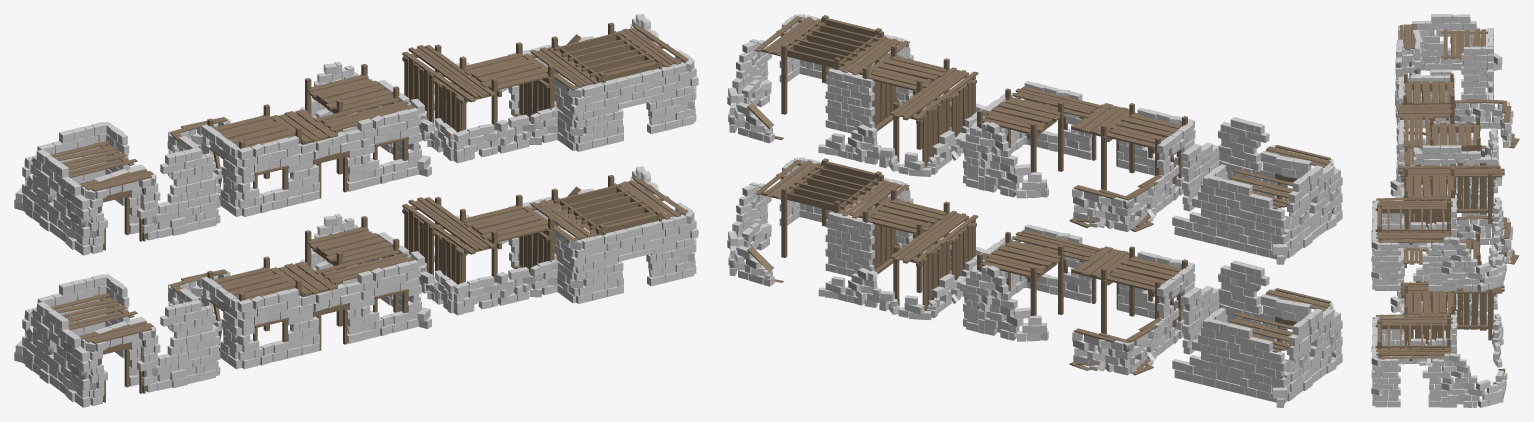
The model's file is Ruined_Structures_B.fbx.
3 renders of one model, left to right at view 1: azimuth 30°, elevation 25°; view 2: azimuth 150°, elevation 25°; view 3: azimuth 270°, elevation 25°, orthographic. The views are drawn at different scales.
Visible parts, largest first — view 1: Ruined_Structure_1A5, Ruined_Structure_1A5.001, Ruined_Structure_1A6, Ruined_Structure_1A6.001, Ruined_Structure_1A7, Ruined_Structure_1A7.001; view 2: Ruined_Structure_1A5, Ruined_Structure_1A5.001, Ruined_Structure_1A6, Ruined_Structure_1A6.001, Ruined_Structure_1A7, Ruined_Structure_1A7.001; view 3: Ruined_Structure_1A5, Ruined_Structure_1A5.001, Ruined_Structure_1A6, Ruined_Structure_1A7, Ruined_Structure_1A6.001, Ruined_Structure_1A7.001.
Boxes of the visible parts, x1=… form: Ruined_Structure_1A5: x1=402, y1=14, x2=698, y2=163; Ruined_Structure_1A5.001: x1=402, y1=166, x2=698, y2=315; Ruined_Structure_1A6: x1=167, y1=61, x2=431, y2=216; Ruined_Structure_1A6.001: x1=167, y1=214, x2=431, y2=369; Ruined_Structure_1A7: x1=14, y1=121, x2=220, y2=255; Ruined_Structure_1A7.001: x1=14, y1=274, x2=220, y2=407; Ruined_Structure_1A5: x1=727, y1=14, x2=985, y2=176; Ruined_Structure_1A5.001: x1=727, y1=157, x2=985, y2=320; Ruined_Structure_1A6: x1=960, y1=81, x2=1195, y2=231; Ruined_Structure_1A6.001: x1=960, y1=224, x2=1195, y2=375; Ruined_Structure_1A7: x1=1172, y1=117, x2=1342, y2=264; Ruined_Structure_1A7.001: x1=1172, y1=260, x2=1342, y2=407; Ruined_Structure_1A5: x1=1371, y1=162, x2=1507, y2=291; Ruined_Structure_1A5.001: x1=1371, y1=280, x2=1507, y2=407; Ruined_Structure_1A6: x1=1390, y1=73, x2=1519, y2=196; Ruined_Structure_1A7: x1=1395, y1=14, x2=1502, y2=118; Ruined_Structure_1A6.001: x1=1390, y1=195, x2=1519, y2=312; Ruined_Structure_1A7.001: x1=1395, y1=133, x2=1502, y2=227.
Bounding box in the file's own units: 4159 × 1553 × 1156.
